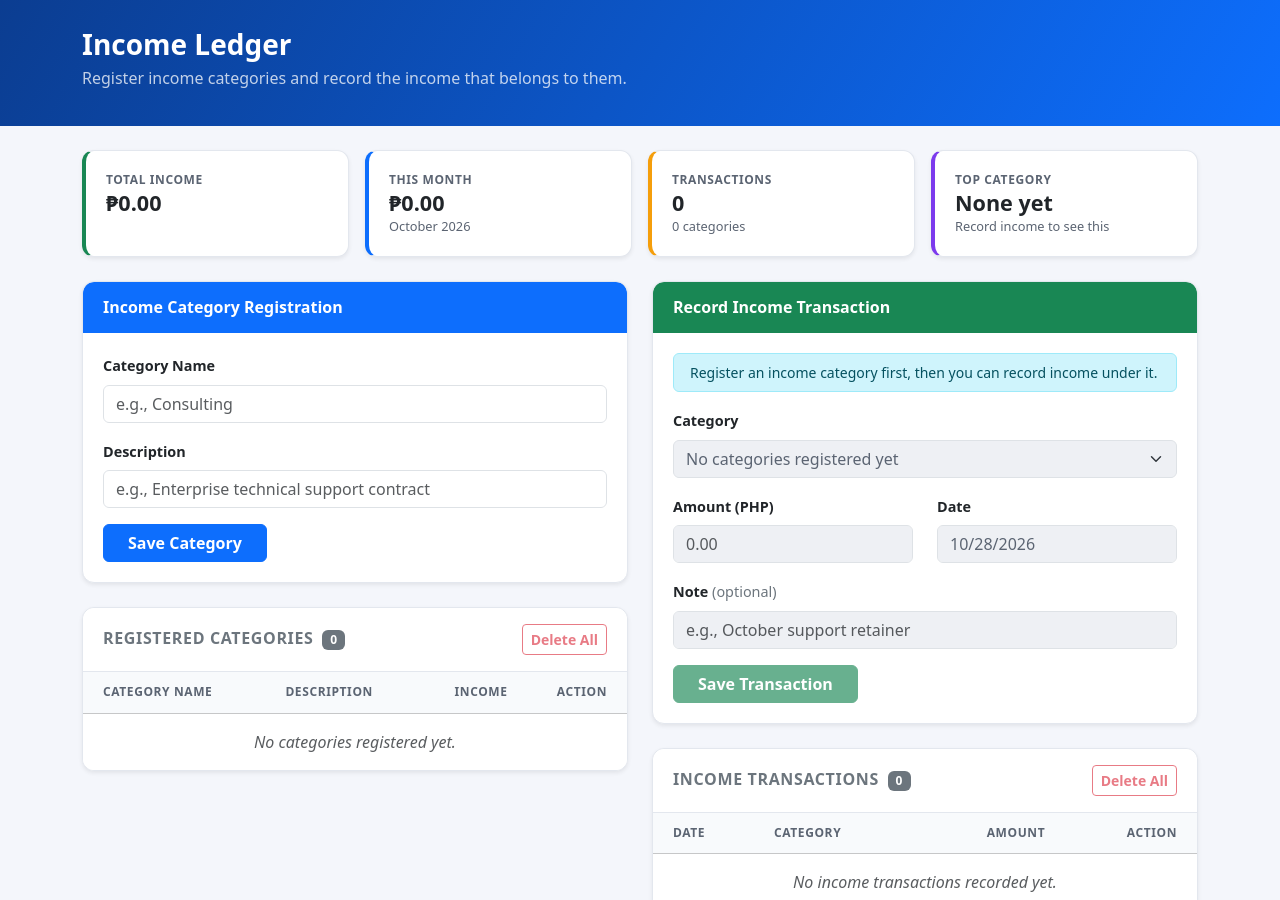
it: category edit and search › cancel leaves the category unchanged
Type "Consulting" into the field labelled "Category Name". click: point(355, 404)
box: [103, 385, 607, 423]
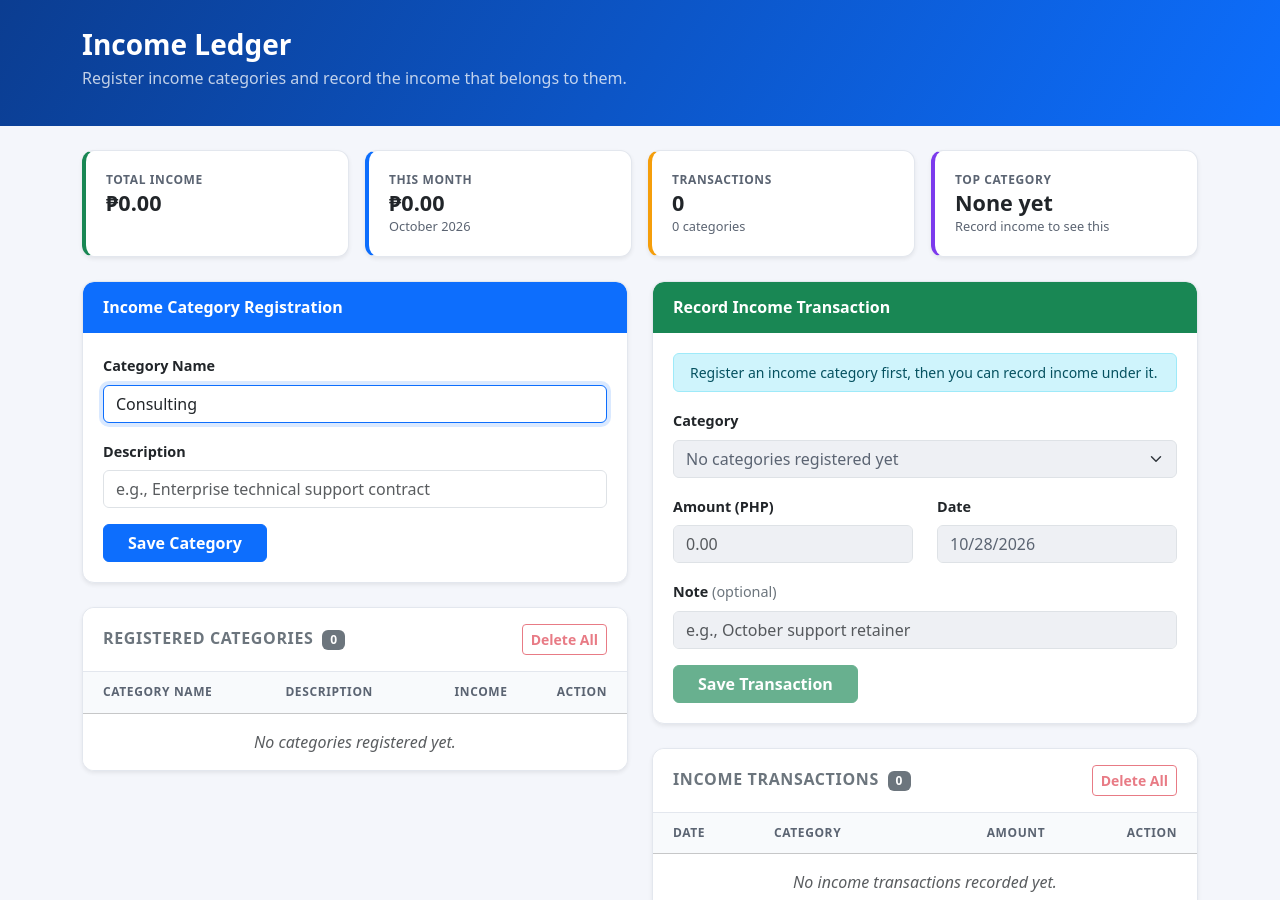
Type "Support" into the field labelled "Description". click: point(355, 489)
box: [103, 470, 607, 508]
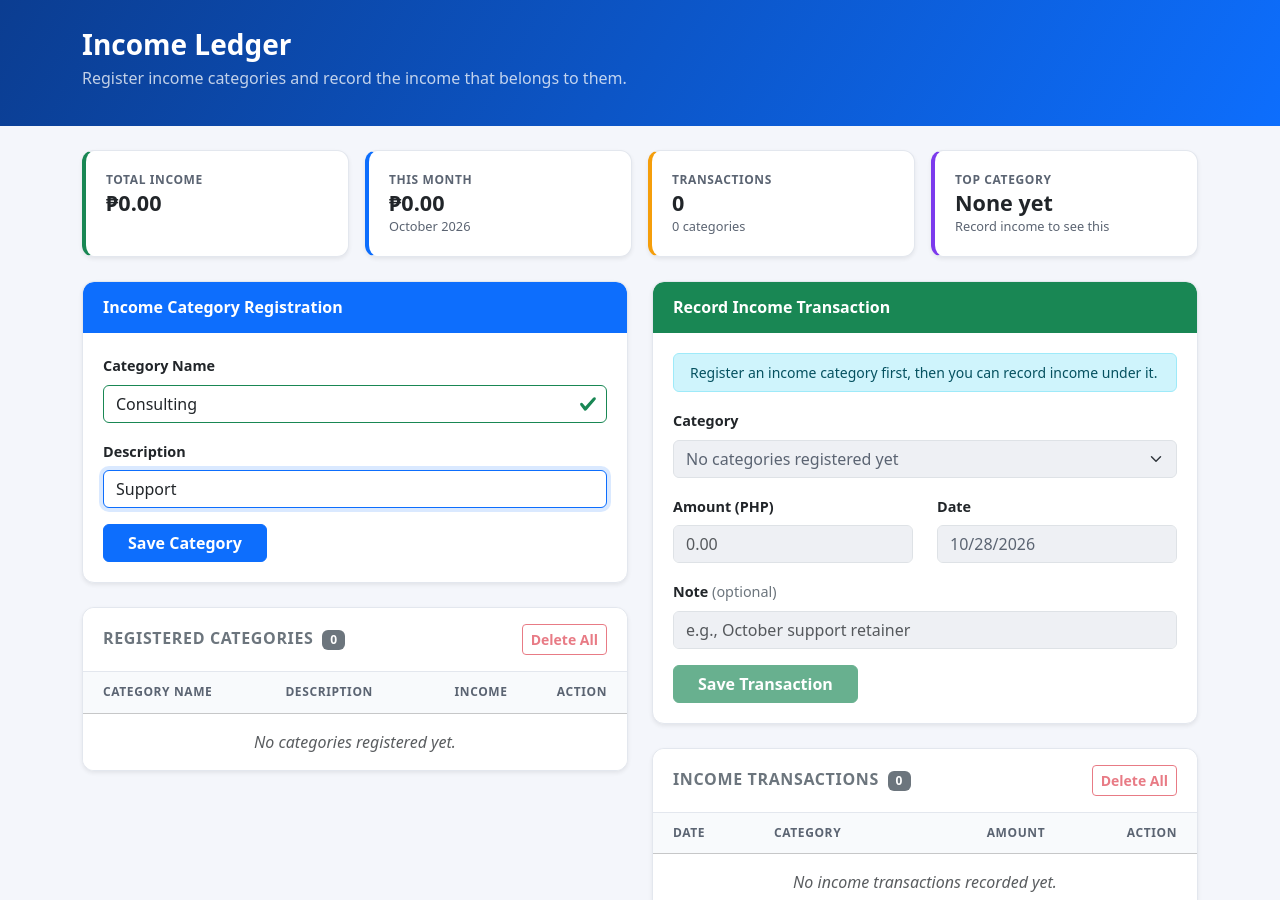
Click the button "Save Category". click: point(185, 543)
box: [103, 524, 267, 562]
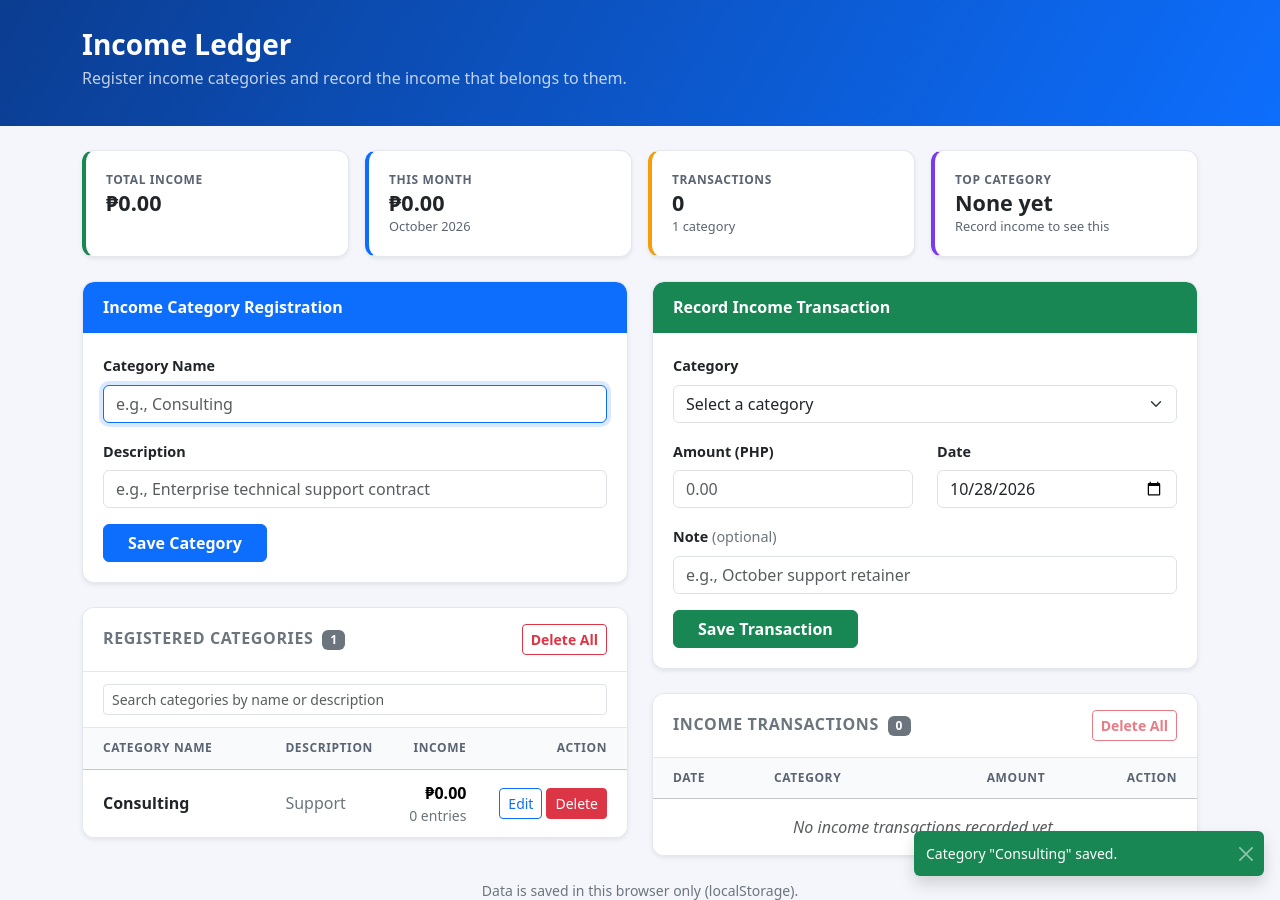
Click the button named "Edit Consulting". click: point(521, 803)
box: [499, 788, 542, 819]
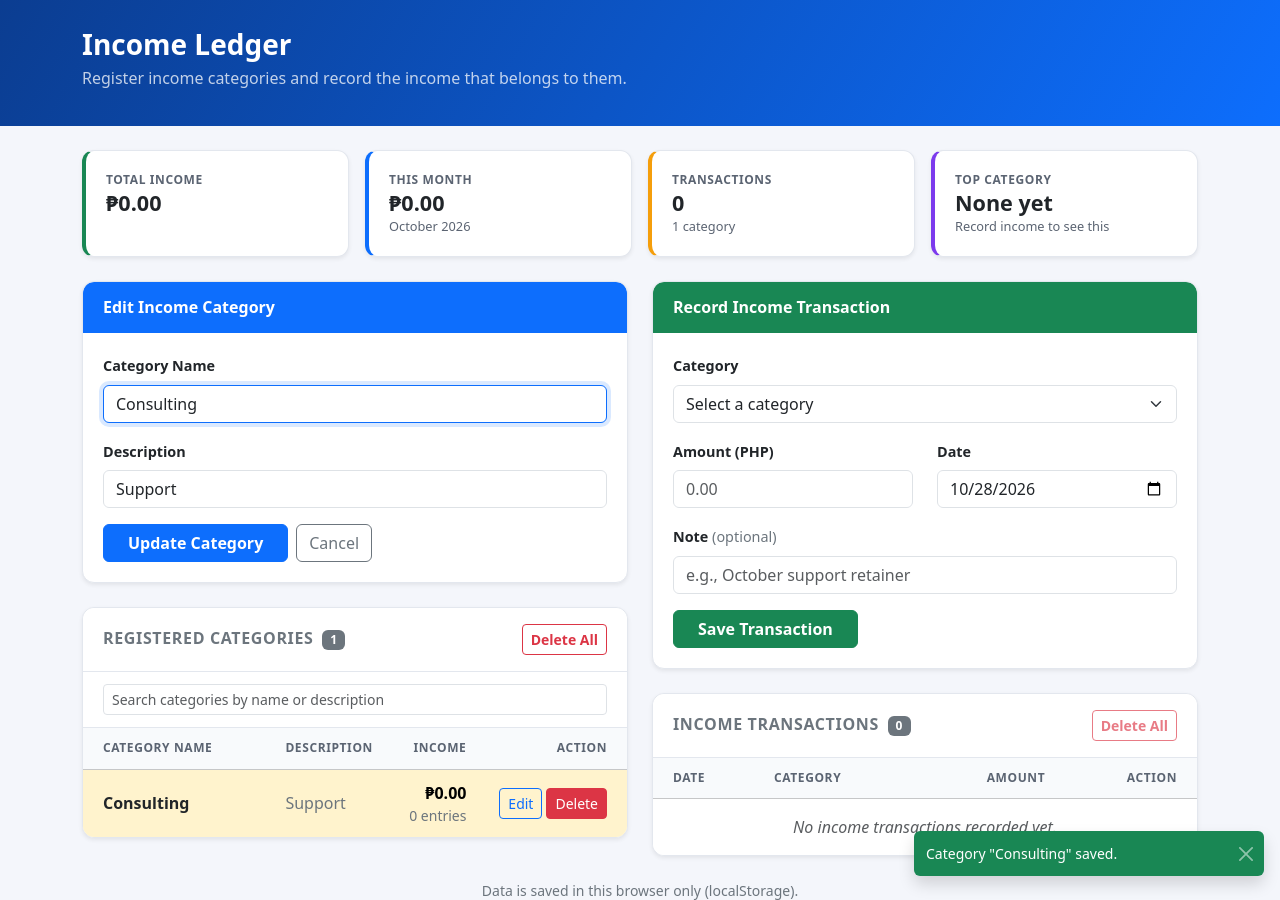
Click the button "Cancel". click: point(334, 543)
box: [296, 524, 372, 562]
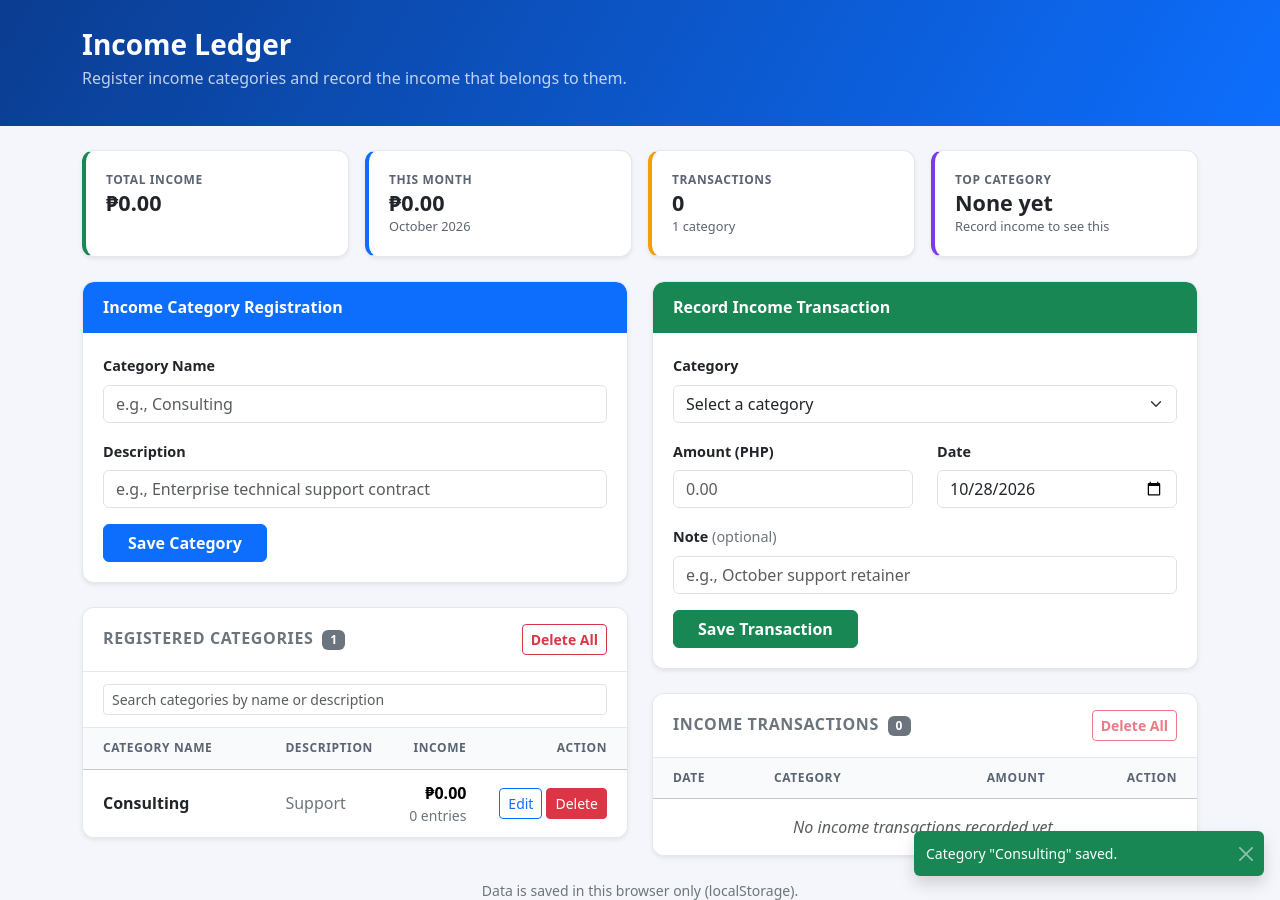
Expected: the cell "Consulting" is shown, [83, 769, 273, 837]
Expected: the button "Save Category" is shown, [103, 524, 267, 562]
